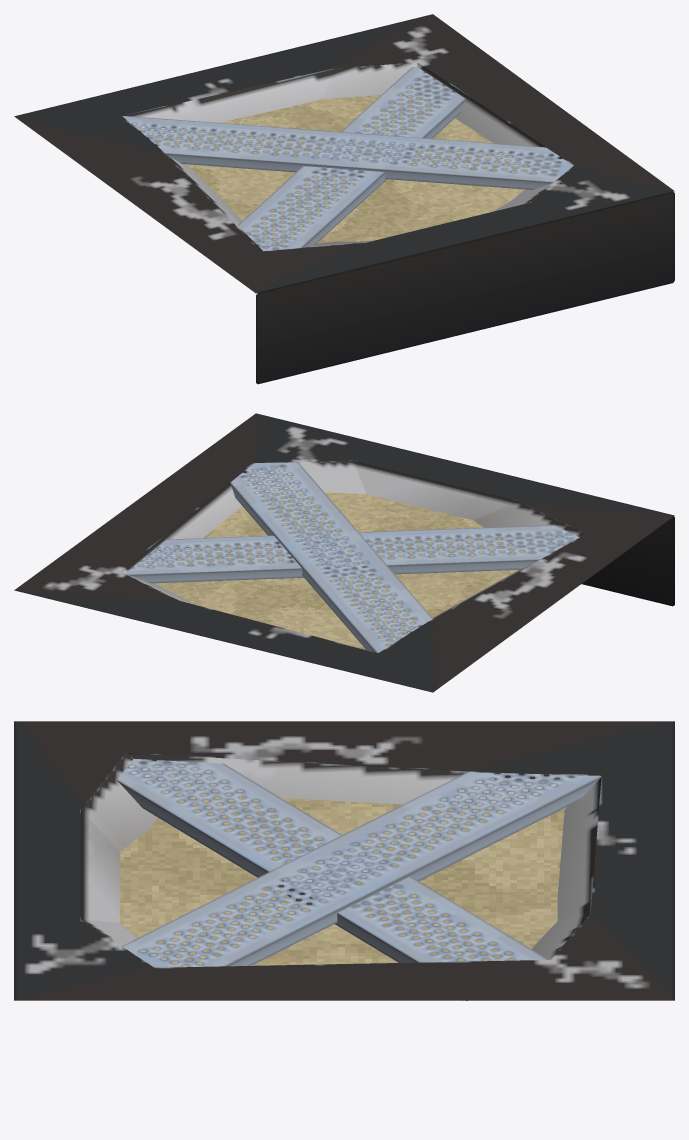
The model's file is sandy.fbx.
3 renders of one model, top to bottom at view 1: azimuth 30°, elevation 25°; view 2: azimuth 150°, elevation 25°; view 3: azimuth 270°, elevation 25°, orthographic. The views are drawn at different scales.
Parts seen in each view (by area): view 1: floor, brig, sand, brig_1; view 2: floor, sand, brig, brig_1; view 3: floor, brig, sand, brig_1.
Boxes of the visible parts, left/top/right/bottom form: floor: left=14, top=14, right=674, bottom=384; brig: left=122, top=116, right=573, bottom=189; sand: left=156, top=93, right=535, bottom=246; brig_1: left=238, top=67, right=465, bottom=251; floor: left=14, top=413, right=674, bottom=692; sand: left=154, top=492, right=532, bottom=649; brig: left=230, top=462, right=432, bottom=652; brig_1: left=125, top=525, right=579, bottom=583; floor: left=14, top=721, right=674, bottom=1000; brig: left=122, top=772, right=601, bottom=967; sand: left=120, top=793, right=564, bottom=967; brig_1: left=117, top=758, right=546, bottom=1001.
Size of the model in its own units: 300 by 62.5 by 300.
3 materials, 3 textured.
